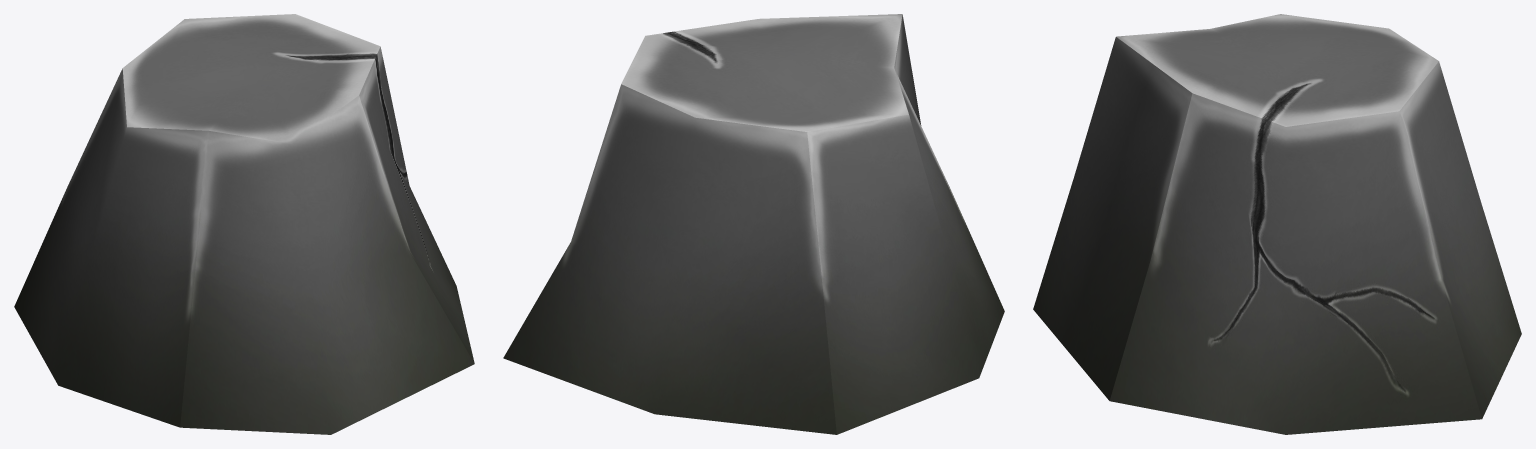
3 views of the same model, side by side, from view 1: azimuth 30°, elevation 25°; view 2: azimuth 150°, elevation 25°; view 3: azimuth 270°, elevation 25° (orthographic). The views are drawn at different scales.
Visible parts, largest first — view 1: Box001; view 2: Box001; view 3: Box001.
Part boxes in pixels (x1,y1,x2,y2): Box001: [14, 14, 474, 434]; Box001: [503, 14, 1004, 434]; Box001: [1033, 14, 1521, 434].
Bounding box in the file's own units: 166 × 104 × 168.
1 material, 1 textured.
